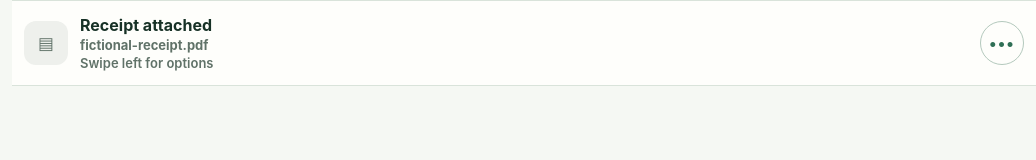
moves with the pointer and exposes the tray before pointer-up
Press the mouse on the element with test id "receipt-attachment-row" at {"x": 524, "y": 43}, box [12,0,1035,86]
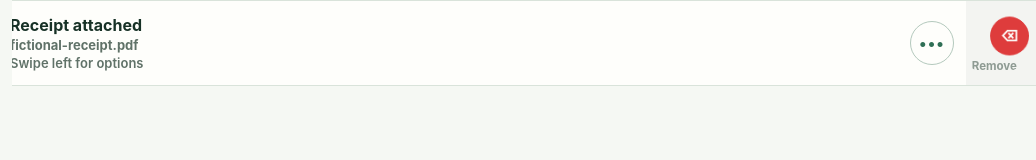
Expected: the element with class "expense-receipt-swipe__tray" shows "Remove", [957,14,1032,72]
